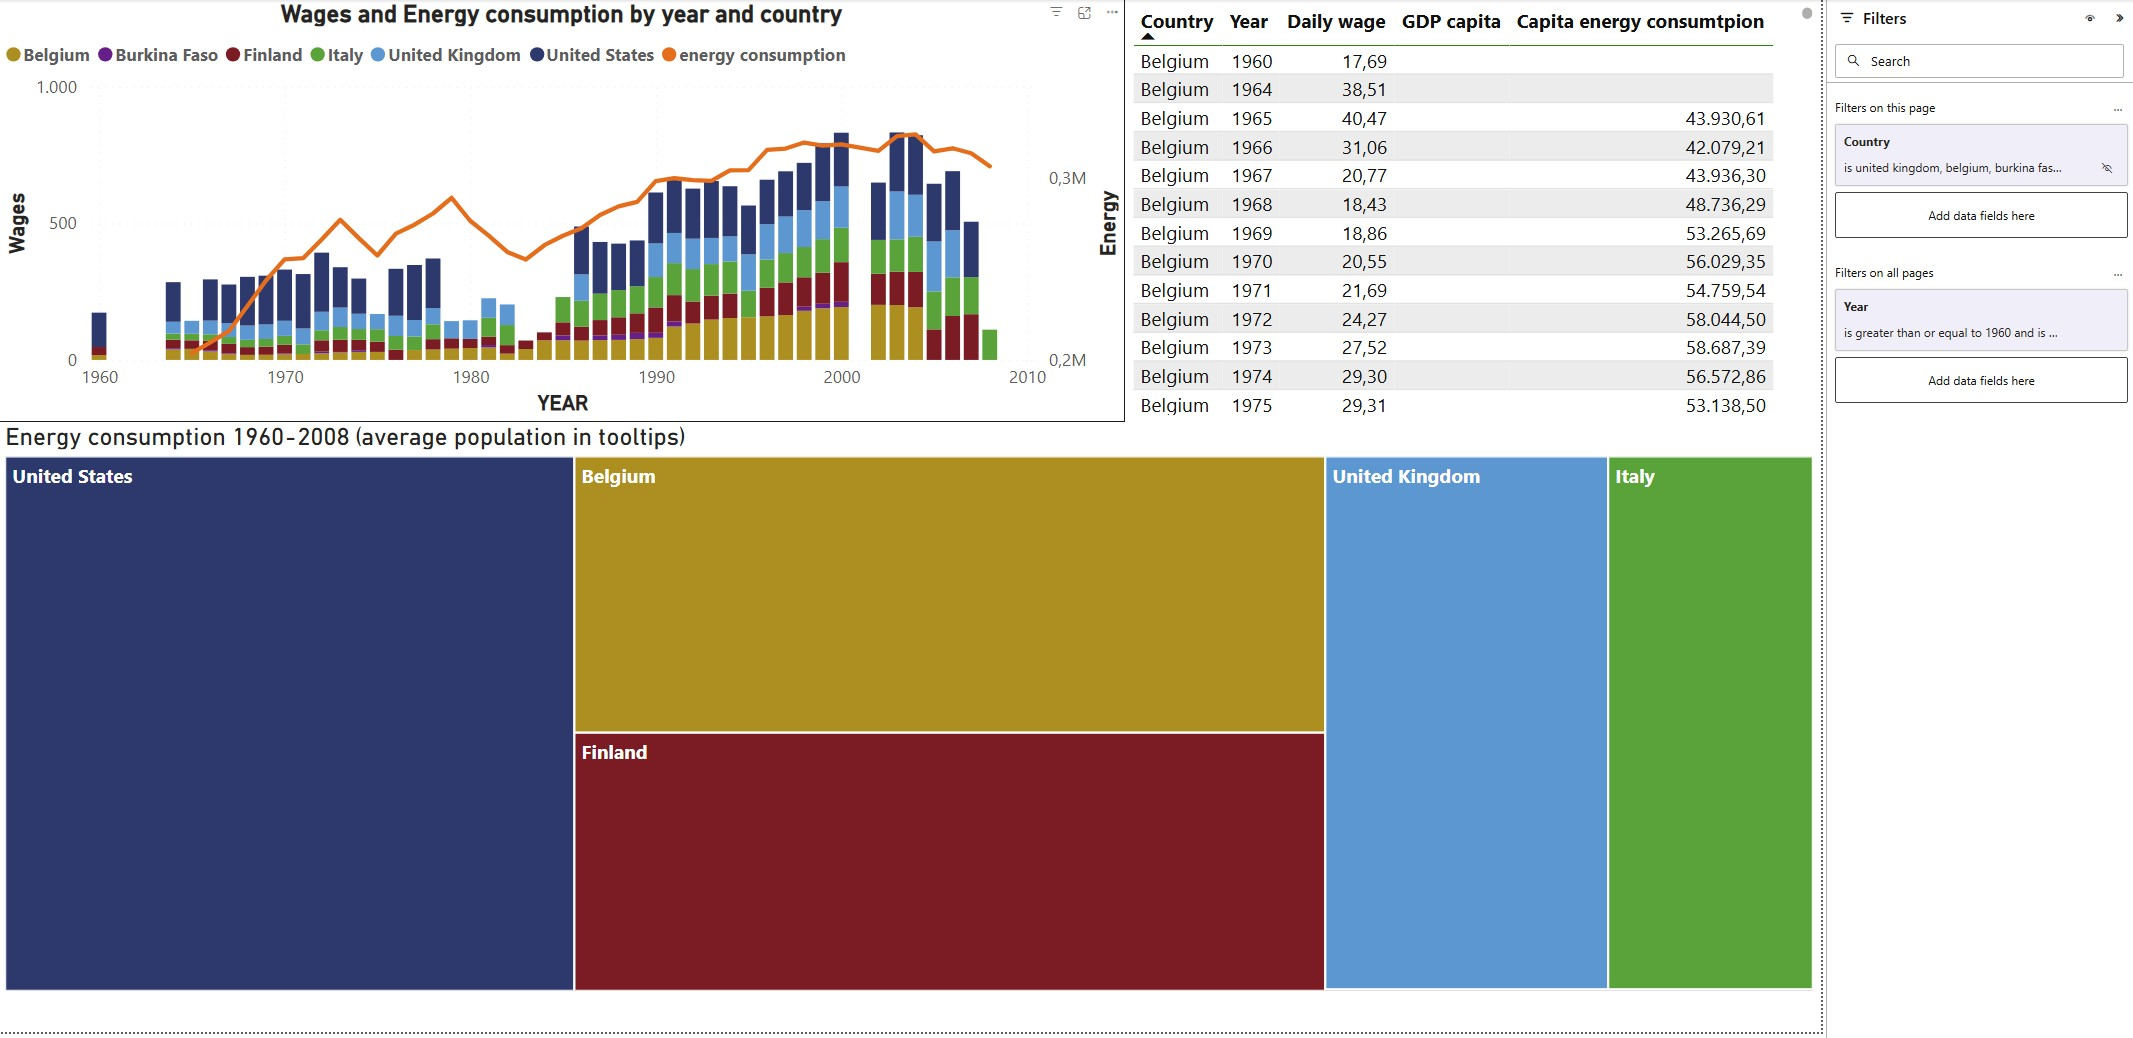

What the dashboard file says about the page in this screenshot:
{"tool":"powerbi","page":{"name":"Country comparison","canvas":[1280,720],"ordinal":0},"visuals":[{"type":"lineStackedColumnComboChart","title":"Wages and Energy consumption by year and country","fields":{"Category":["SUMMARY_TABLE.year"],"Series":["SUMMARY_TABLE.country"],"Y":["Sum(SUMMARY_TABLE.daily_true_wage)"],"Y2":["Sum(SUMMARY_TABLE.per_capita_energy_consumption)"]},"box":[9.9,0,785.5,294.6],"z":0},{"type":"treemap","title":"Energy consumption 1960-2008 (average population in tooltips)","fields":{"Group":["SUMMARY_TABLE.country"],"Values":["Sum(SUMMARY_TABLE.per_capita_energy_consumption)"]},"box":[9.8,294.8,1269.9,401.5],"z":1000},{"type":"tableEx","fields":{"Values":["SUMMARY_TABLE.country","Sum(SUMMARY_TABLE.year)","Sum(SUMMARY_TABLE.daily_true_wage)","Sum(SUMMARY_TABLE.gdp_per_capita)","Sum(SUMMARY_TABLE.per_capita_energy_consumption)"]},"box":[795.4,0,484.6,294.6],"z":2000}]}

Visuals, with their boxes on the page's 1280x720 design canvas (x1, y1, x2, y2). These are canvas units, not pixel positions in the 2133x1038 screenshot, which may show the page scaled, cropped or inside an application window:
"Wages and Energy consumption by year and country" lineStackedColumnComboChart: x1=10 y1=0 x2=795 y2=295
"Energy consumption 1960-2008 (average population in tooltips)" treemap: x1=10 y1=295 x2=1280 y2=696
tableEx - SUMMARY_TABLE.country x Sum(SUMMARY_TABLE.year): x1=795 y1=0 x2=1280 y2=295
